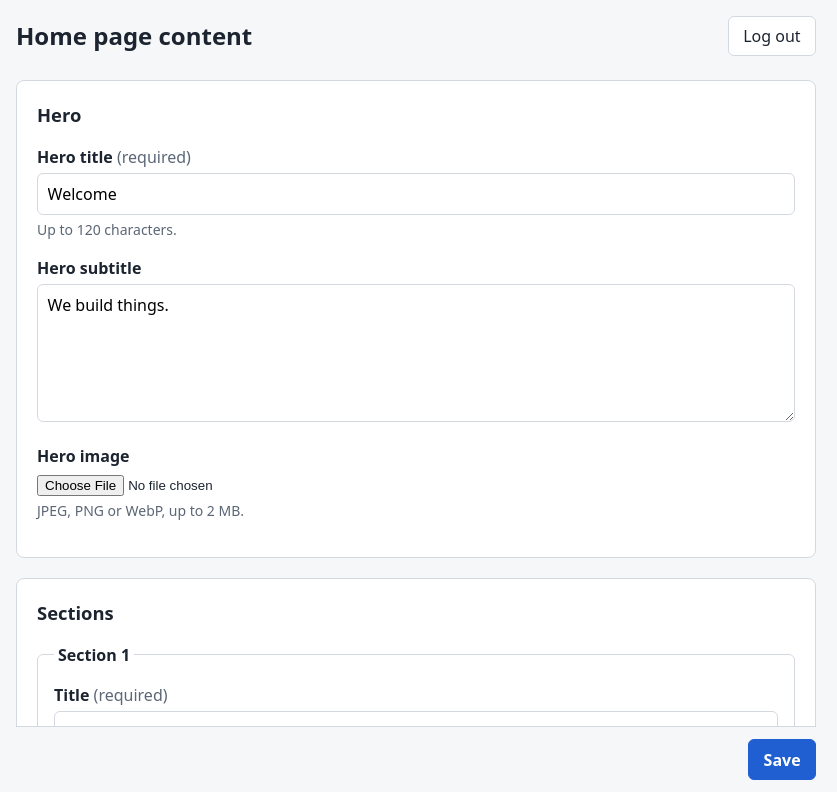
Test case: Validation › fixing the field after a failed save → error goes away
Clear the field labelled "Hero title (required)" at (416, 194), box [37, 173, 795, 215]
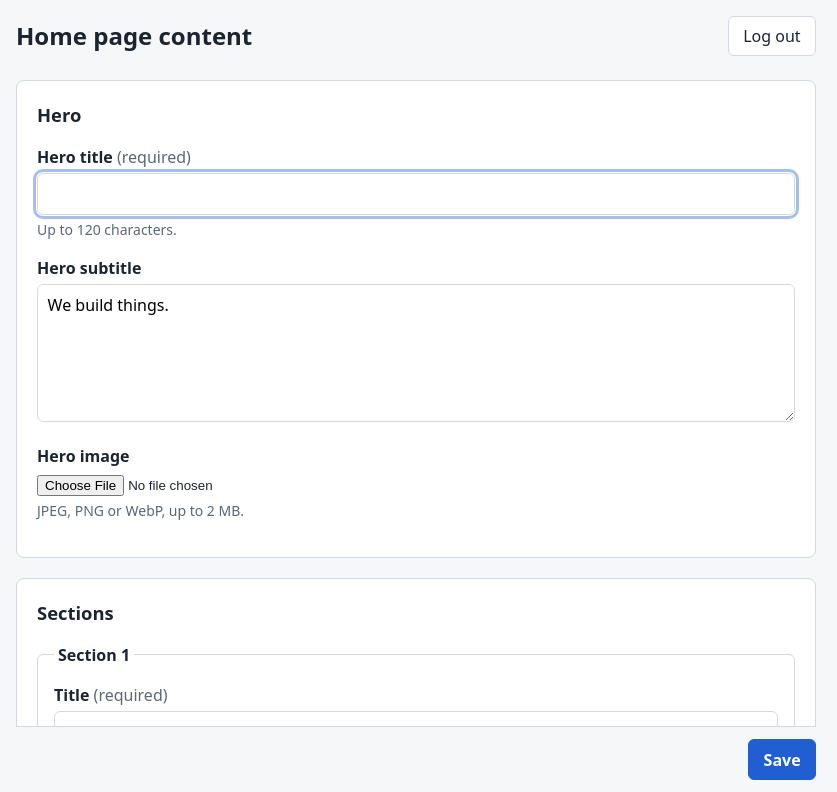
Click the button "Save" at (782, 760), box [748, 740, 816, 780]
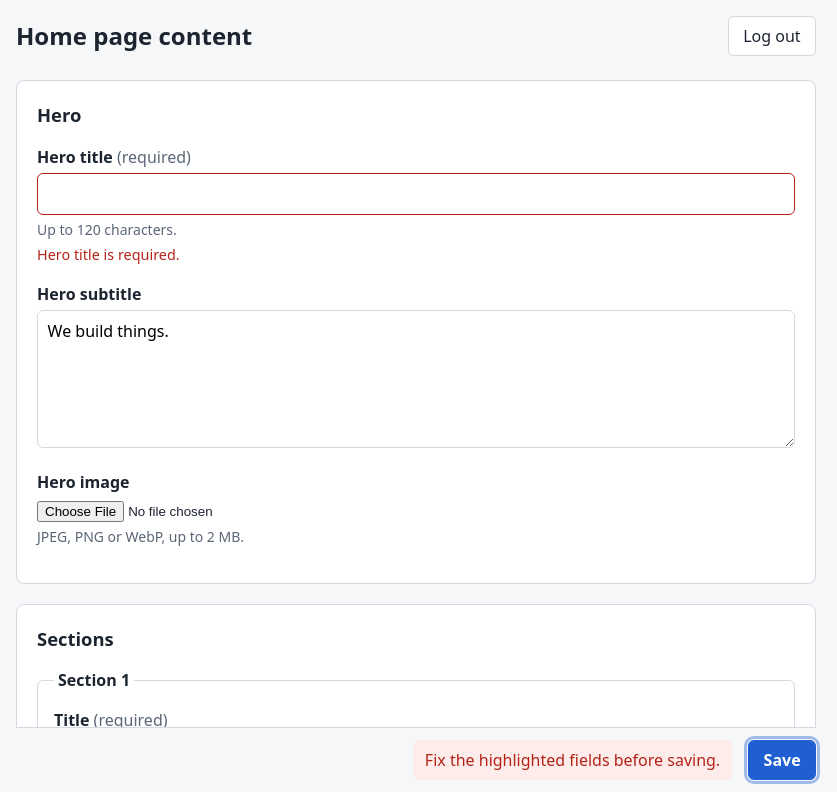
Expected: the text "Hero title is required." is shown, [37, 245, 180, 264]
Type "Back again" into the field labelled "Hero title (required)" at (416, 194), box [37, 173, 795, 215]
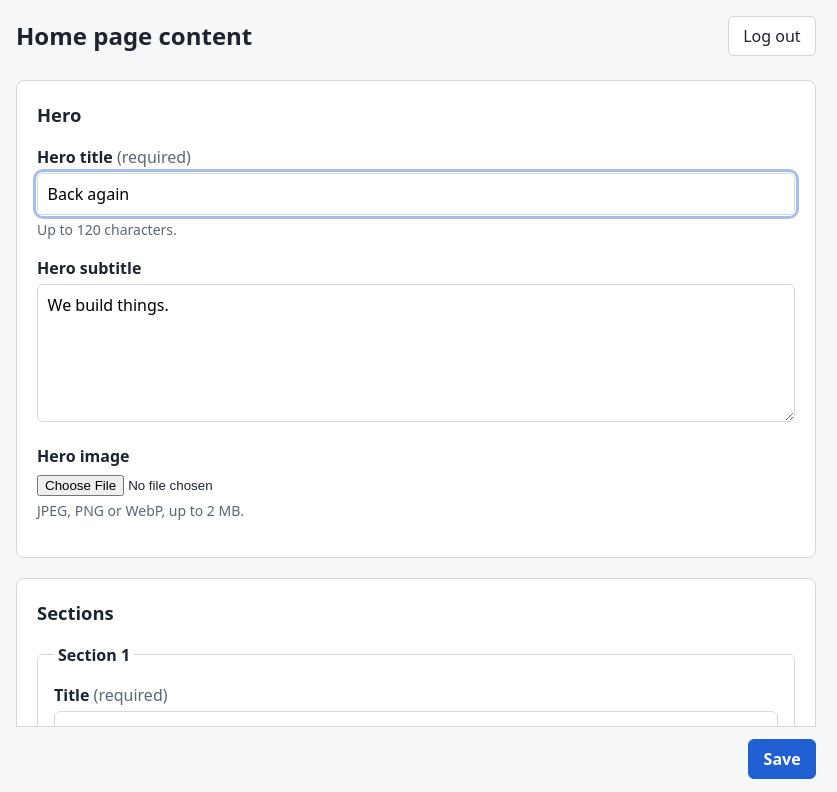
Expected: the text "Hero title is required." is gone
